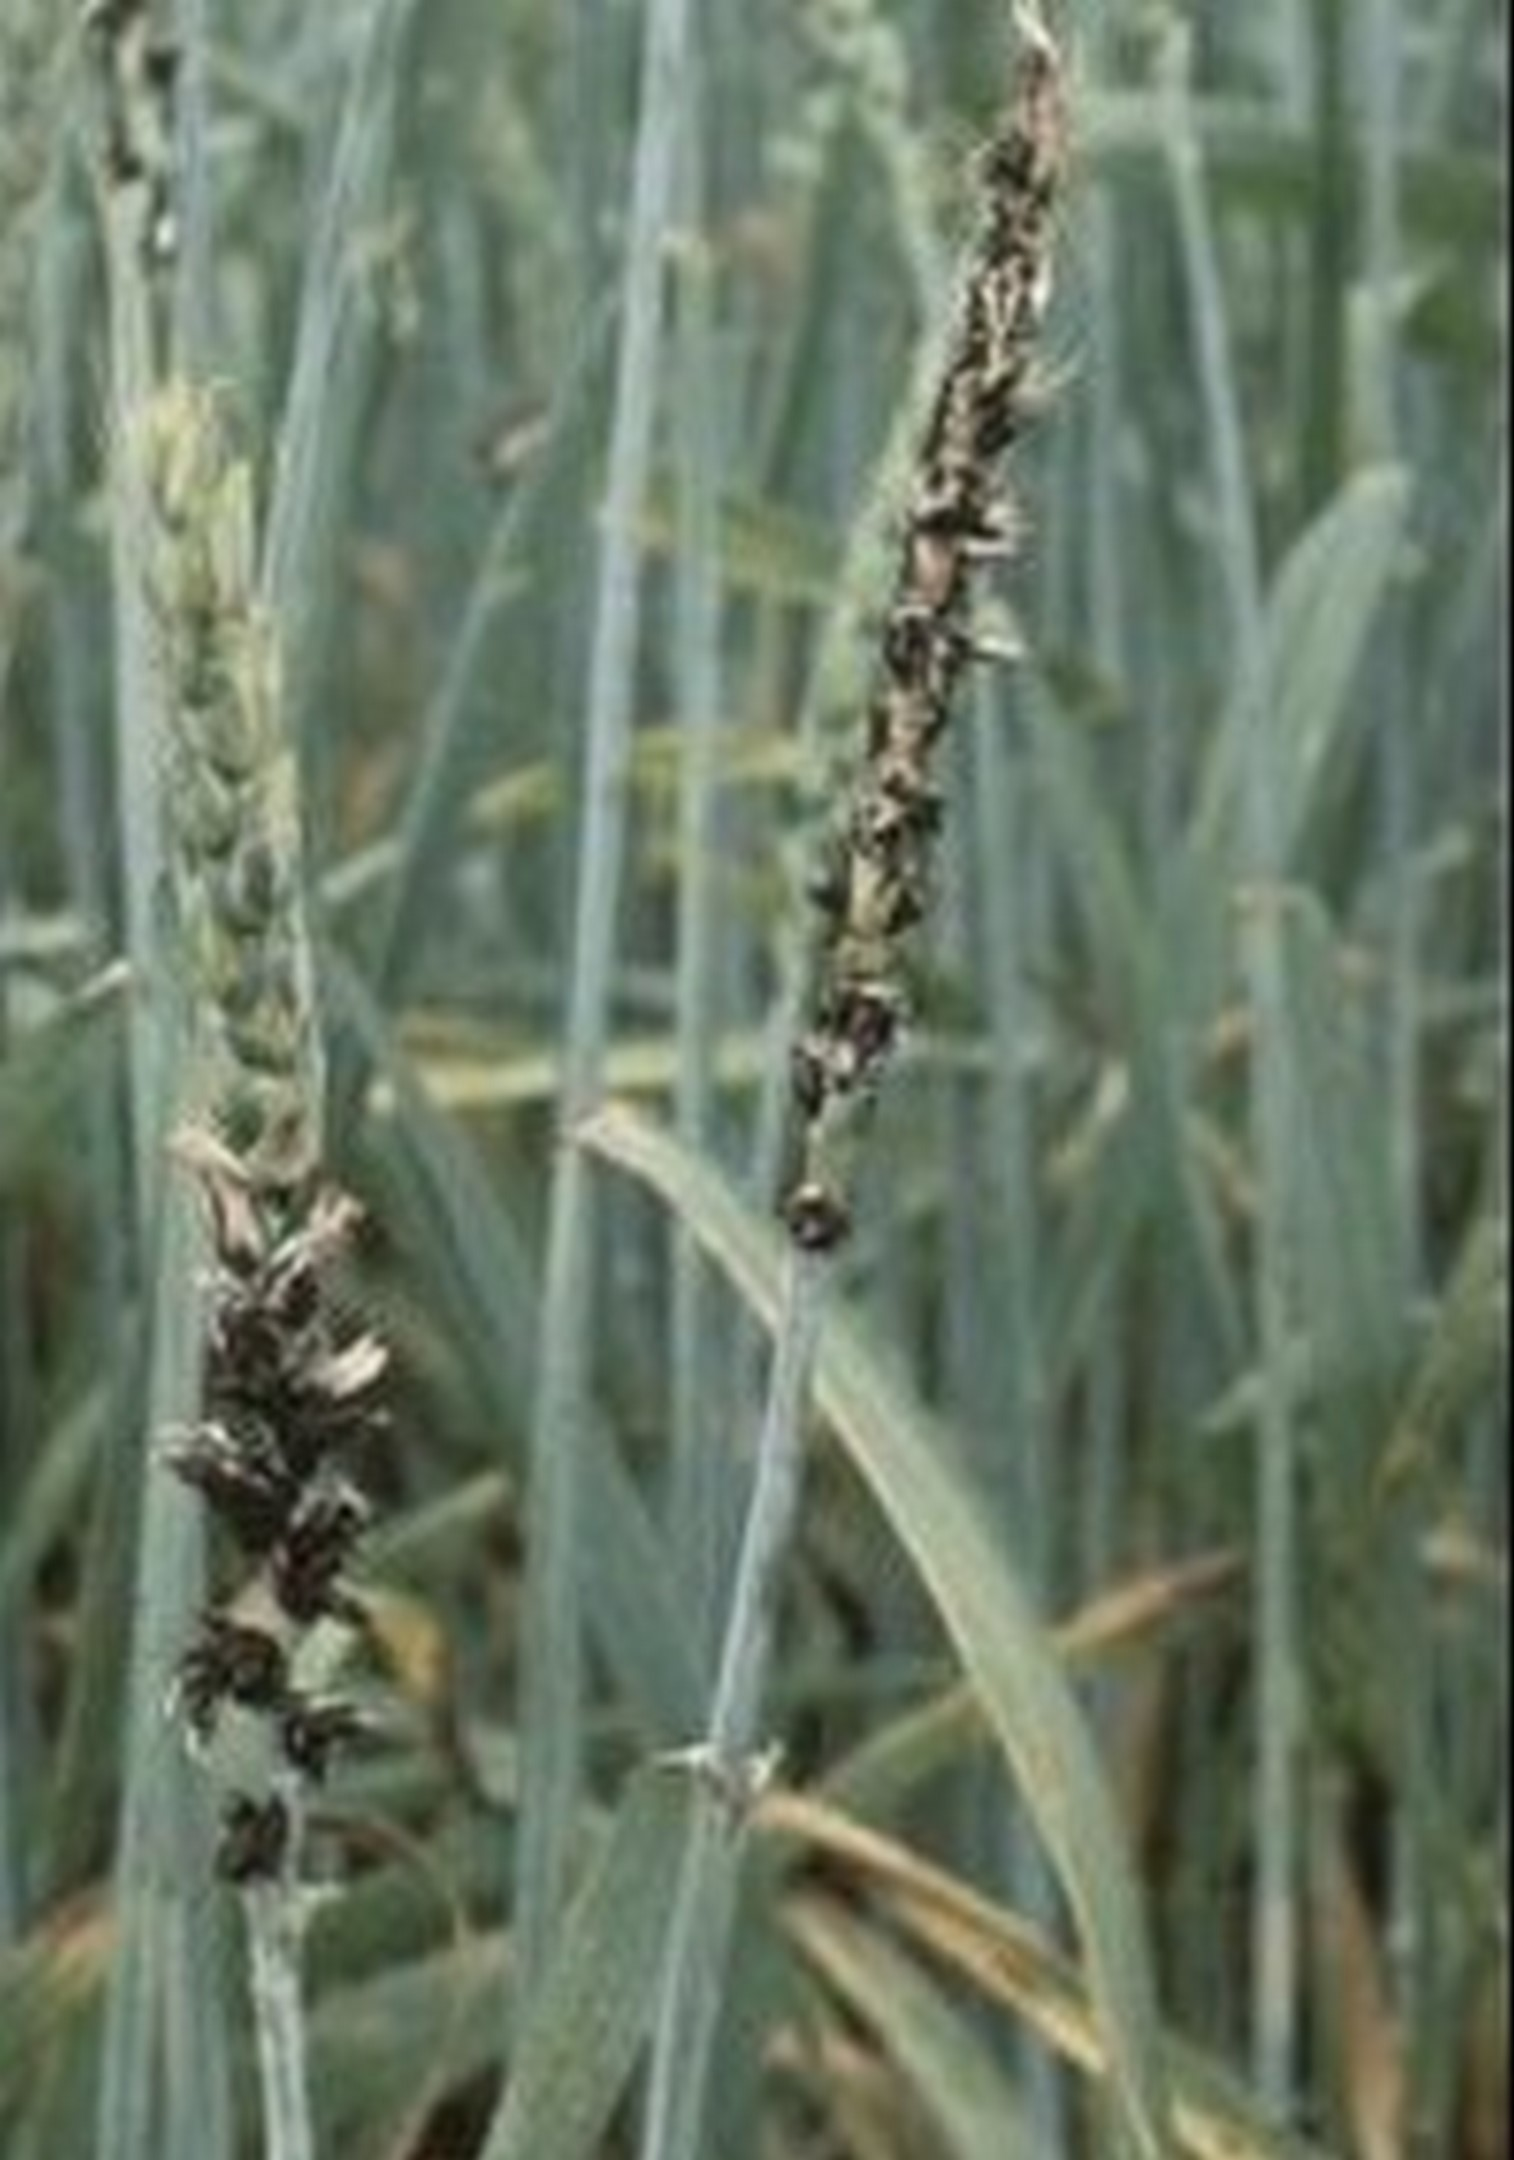Wheat Loose Smut: (759, 48, 1122, 1131), (149, 1183, 424, 1861)
